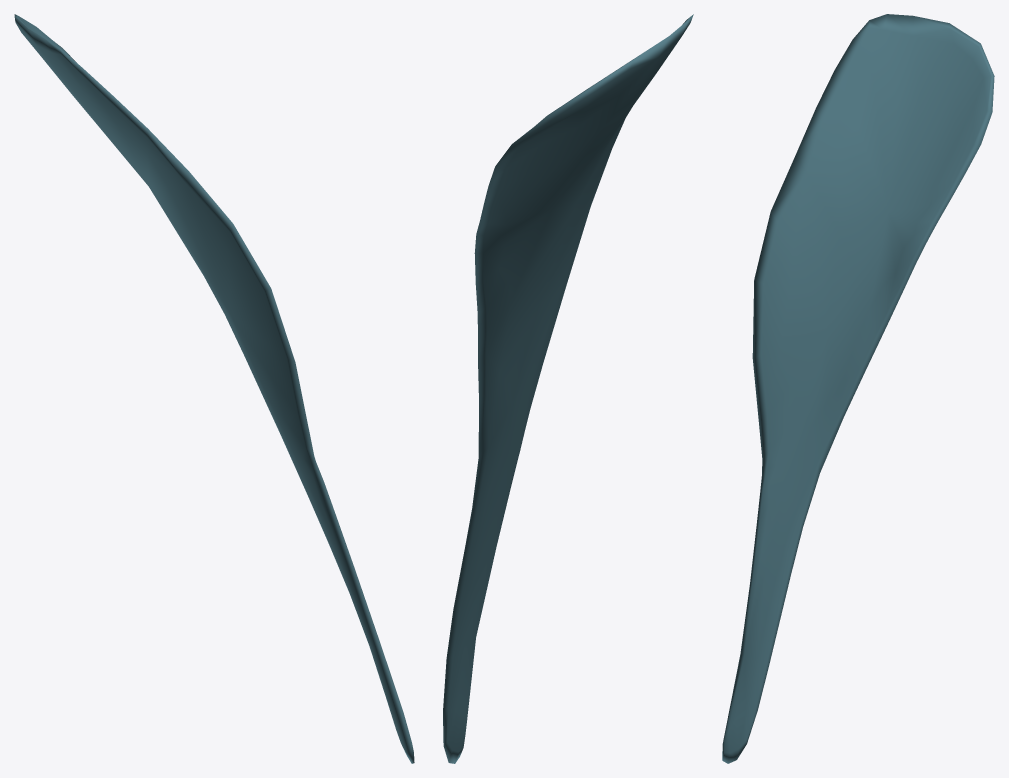
Rendered from Semitendinosus_on_pes_anserinus.l_Generated_Mesh_From_X3D.232.glb.
3 views of the same model, side by side, from view 1: azimuth 30°, elevation 25°; view 2: azimuth 150°, elevation 25°; view 3: azimuth 270°, elevation 25° (orthographic). The views are drawn at different scales.
Parts seen in each view (by area): view 1: Semitendinosus_on_pes_anserinus.l_Generated_Mesh_From_X3D.23; view 2: Semitendinosus_on_pes_anserinus.l_Generated_Mesh_From_X3D.23; view 3: Semitendinosus_on_pes_anserinus.l_Generated_Mesh_From_X3D.23.
Boxes of the visible parts, x1,y1,x2,y2 form: Semitendinosus_on_pes_anserinus.l_Generated_Mesh_From_X3D.23: (14,14,414,763); Semitendinosus_on_pes_anserinus.l_Generated_Mesh_From_X3D.23: (443,14,693,763); Semitendinosus_on_pes_anserinus.l_Generated_Mesh_From_X3D.23: (722,14,994,763).
Bounding box in the file's own units: 0.0197 × 0.0493 × 0.0192.
